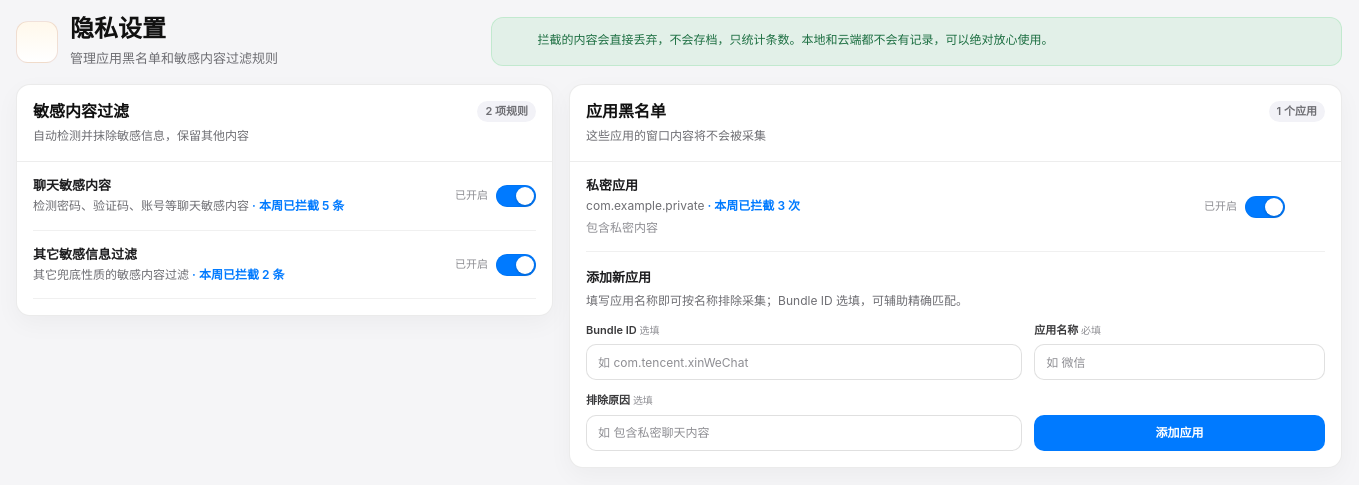
it: PrivacyPanel › 添加成功但列表刷新失败时不显示完成提示
Type "钉钉" into the field labelled "应用名称 必填" at (1180, 362), box [1034, 344, 1325, 380]
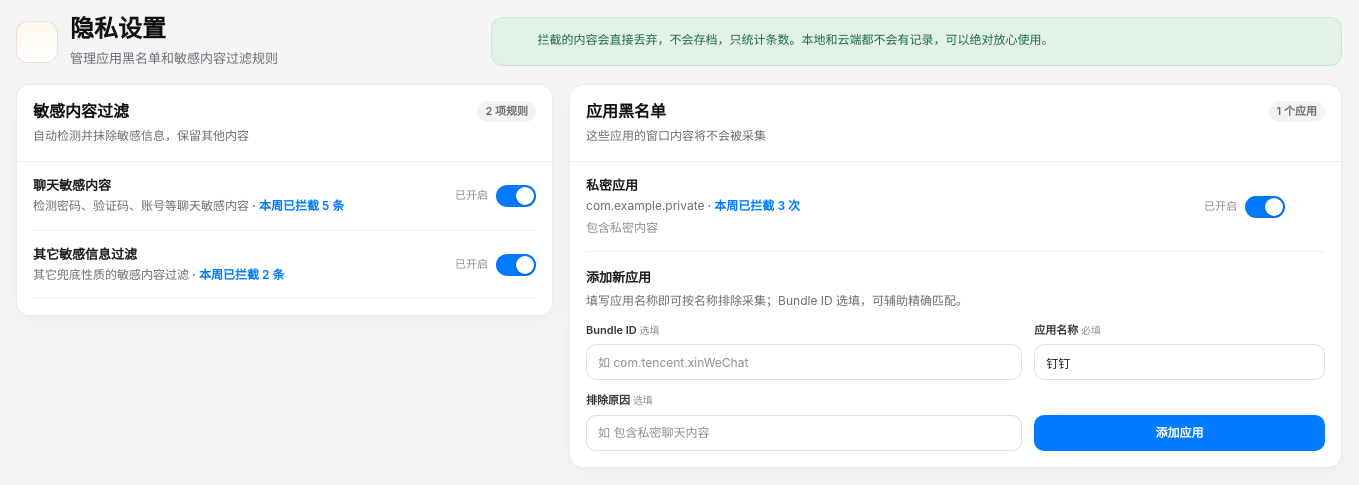
Click the button "添加应用" at (1180, 433), box [1034, 415, 1325, 451]
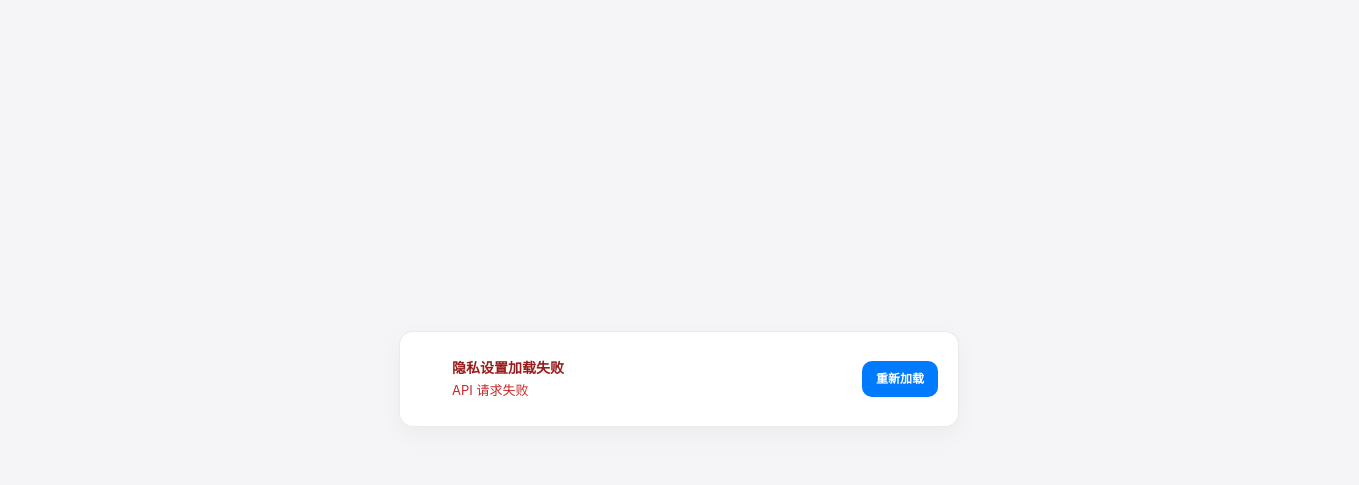
Result: the message shows "隐私设置加载失败" at [452, 359, 564, 376]
